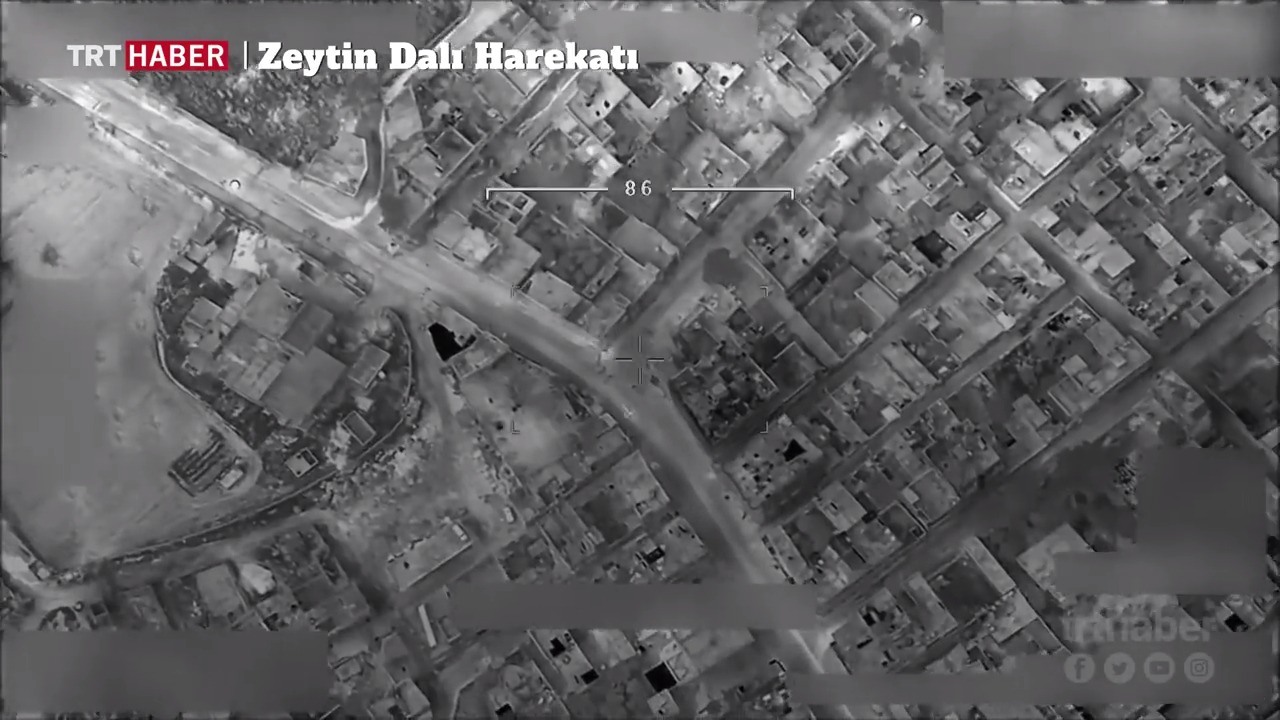bina: (444, 319, 528, 383), (419, 215, 505, 268), (871, 249, 938, 299)
